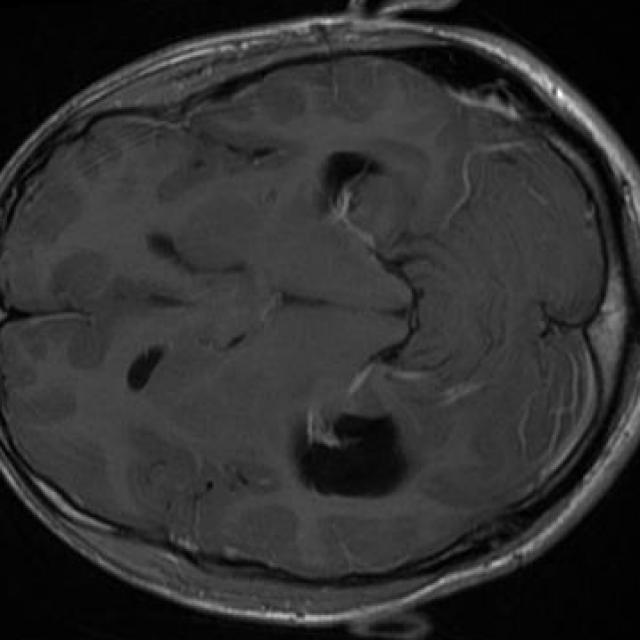glioma: (292, 406, 412, 497)
